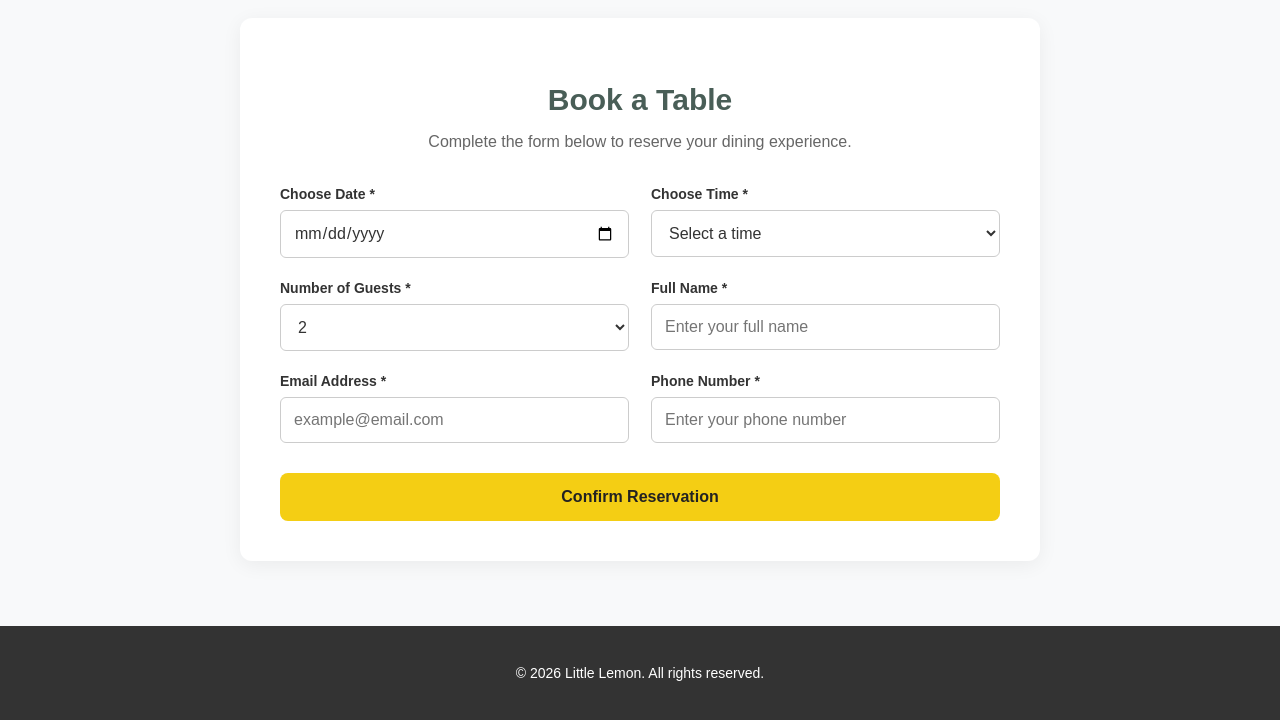
Test case: Little Lemon Booking Application › shows validation errors when the form is empty
The image size is (1280, 720).
(page scrolled)
What coordinates should you click on to do the following:
click the button "Confirm Reservation"
I would click on:
 (640, 497)
Its box is top-left (280, 473), bottom-right (1000, 521).
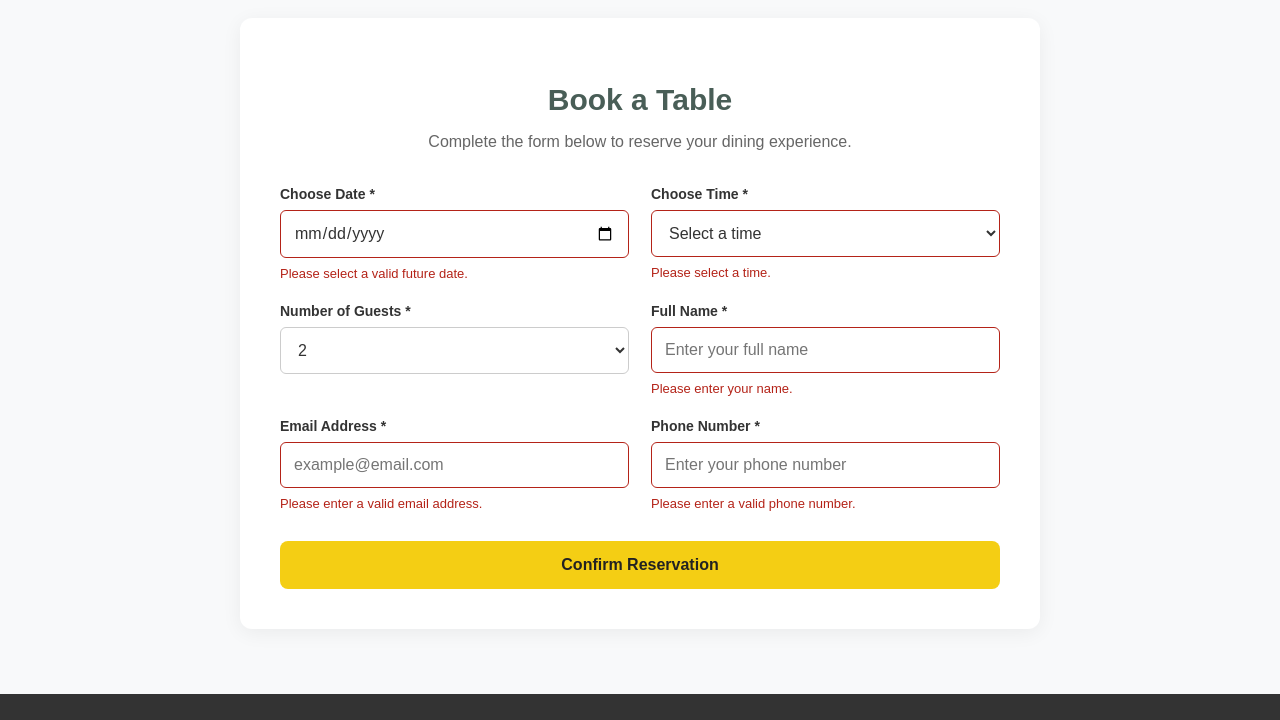
Expected: the text "Please select a valid future date." is shown, top-left (280, 266), bottom-right (468, 281)
Expected: the text "Please enter your name." is shown, top-left (651, 381), bottom-right (793, 396)
Expected: the text "Please enter a valid email address." is shown, top-left (280, 496), bottom-right (482, 511)
